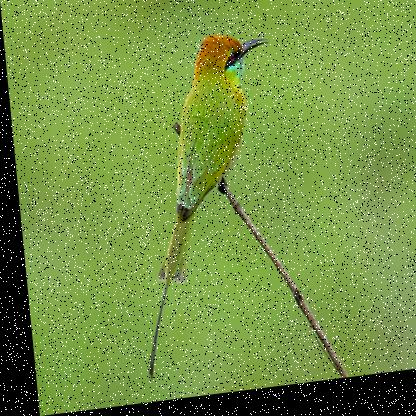Burung: (117, 34, 292, 382)
